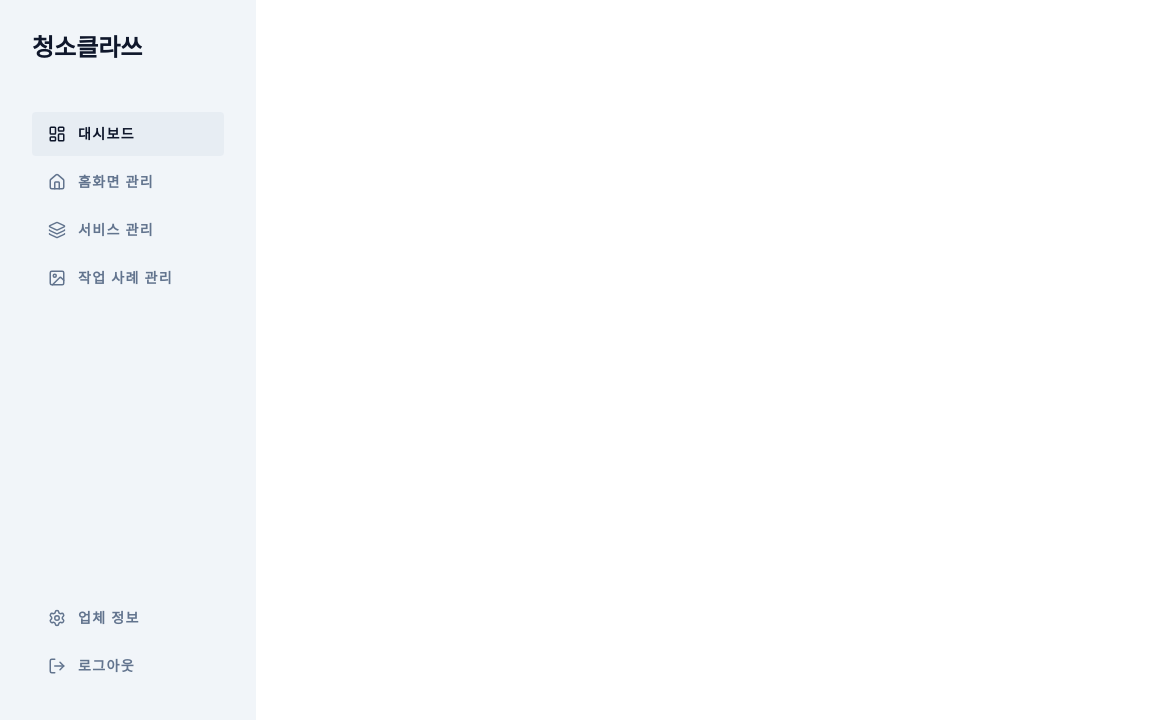
Test: 업체 정보 설정 팝업 › 팝업을 다시 열 때 최신 업체정보를 조회
Click the button "업체 정보" at (128, 618), box x1=32 y1=596 x2=224 y2=640
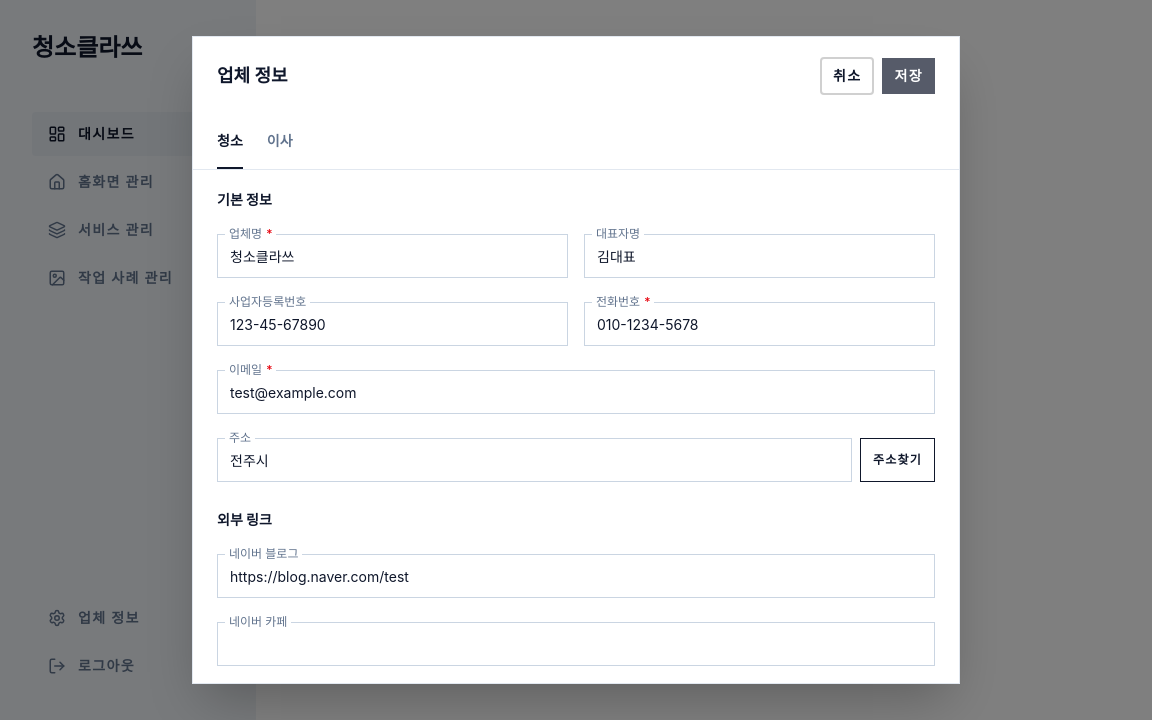
expect the dialog is shown: met
Click the button "취소" at (847, 76), box x1=820 y1=57 x2=874 y2=95
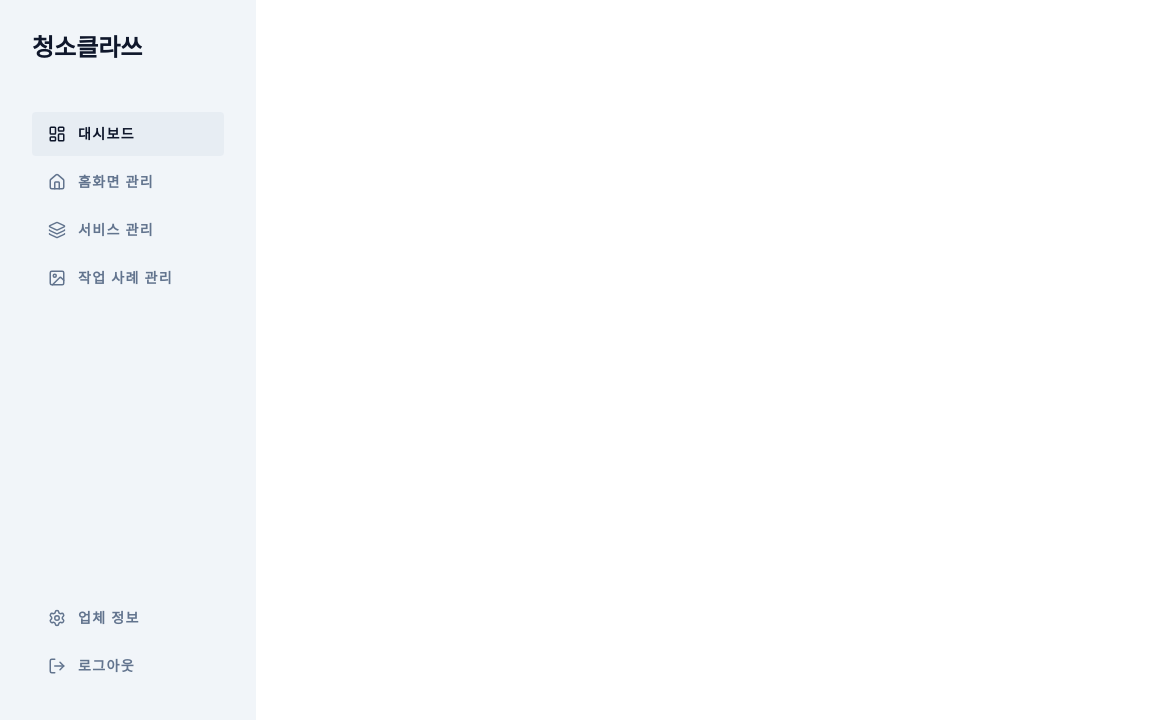
Click the button "업체 정보" at (128, 618), box x1=32 y1=596 x2=224 y2=640
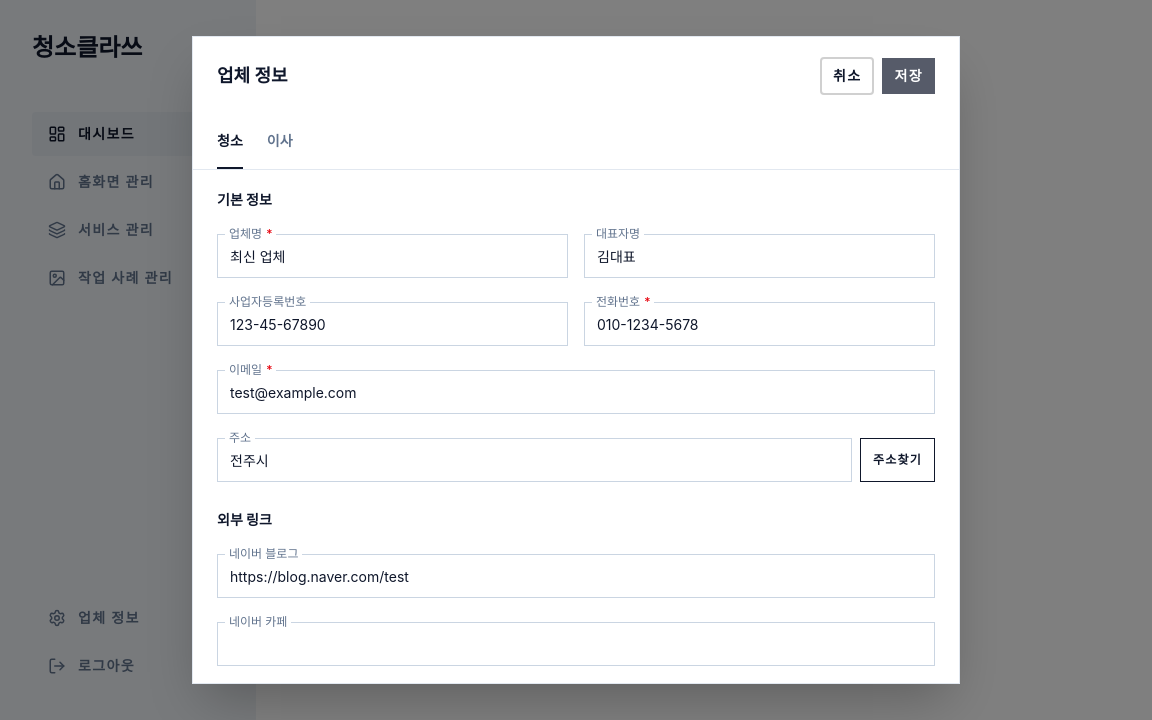
expect the dialog is shown: met
expect the field labelled "업체명" holds "최신 업체": met, box x1=217 y1=234 x2=568 y2=278
